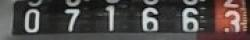digits: (100, 5, 120, 33), (220, 10, 241, 36), (140, 7, 158, 30), (180, 7, 198, 30), (24, 8, 40, 32), (64, 8, 79, 31)
